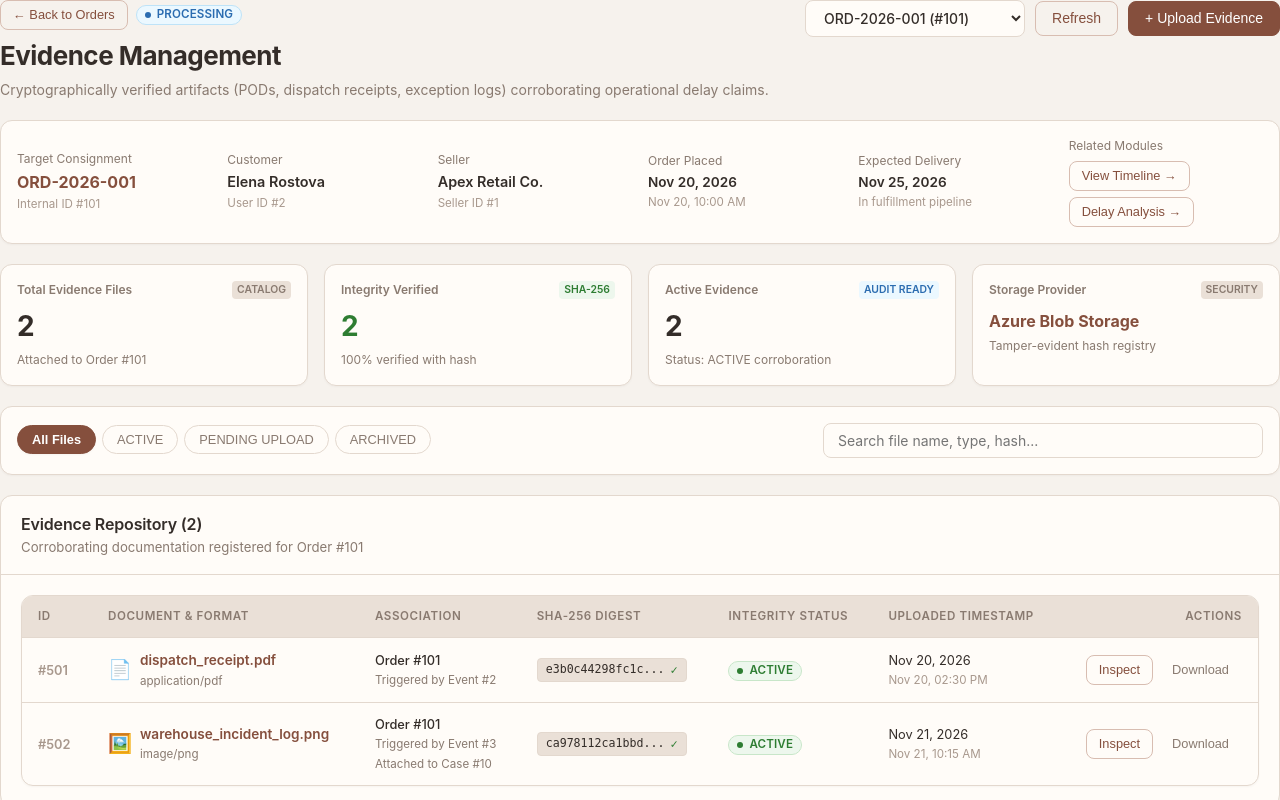
EvidencePage Component › opens the evidence integrity modal and displays full SHA-256 digest
Expected: the text "dispatch_receipt.pdf" is shown, [140, 650, 276, 670]
Step 1. Click the button "Inspect" in the row of "501" → (1119, 670), box [1086, 655, 1153, 685]
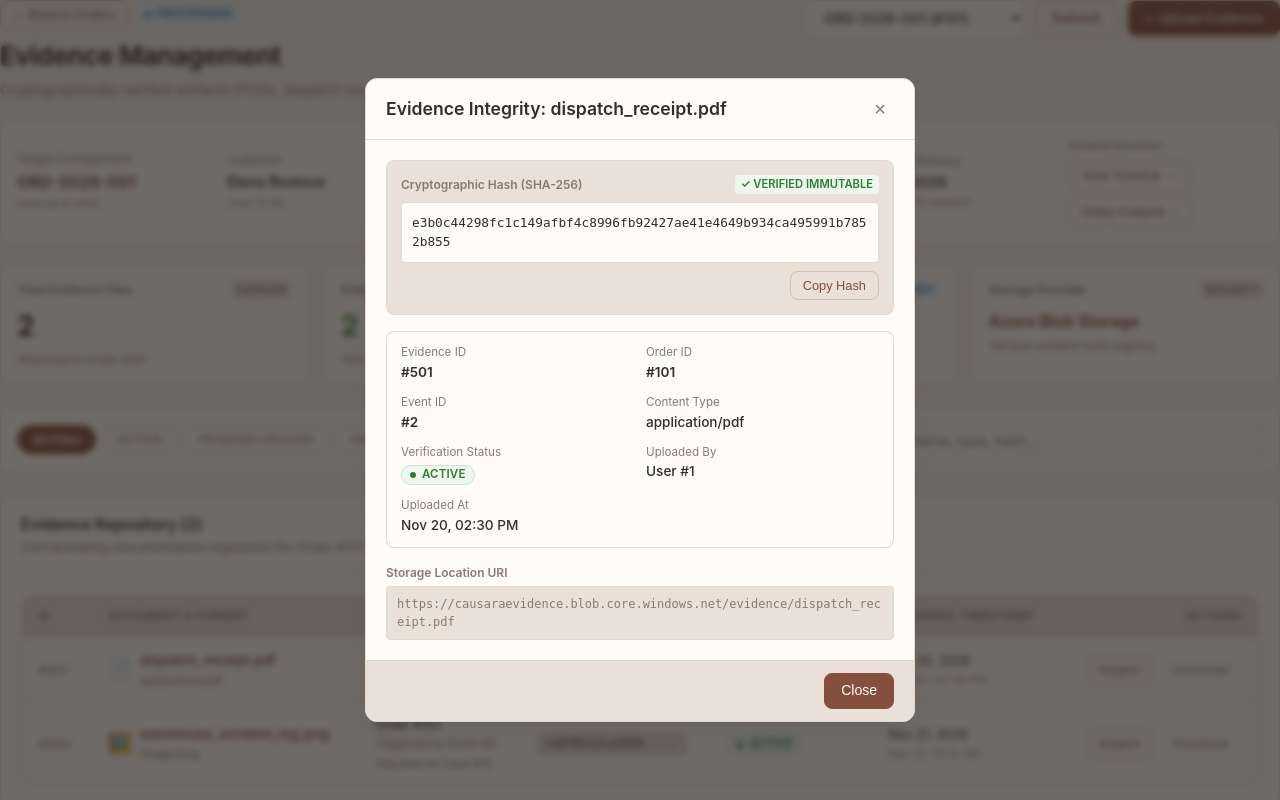
Expected: the heading "Evidence Integrity: dispatch_receipt.pdf" is shown, [386, 96, 727, 122]
Expected: the text "e3b0c44298fc1c149afbf4c8996fb92427ae41e4649b934ca495991b7852b855" is shown, [401, 202, 879, 262]
Expected: the text "✓ VERIFIED IMMUTABLE" is shown, [735, 175, 879, 194]
Step 2. Click the button named "Close" → (880, 109), box [866, 95, 894, 123]
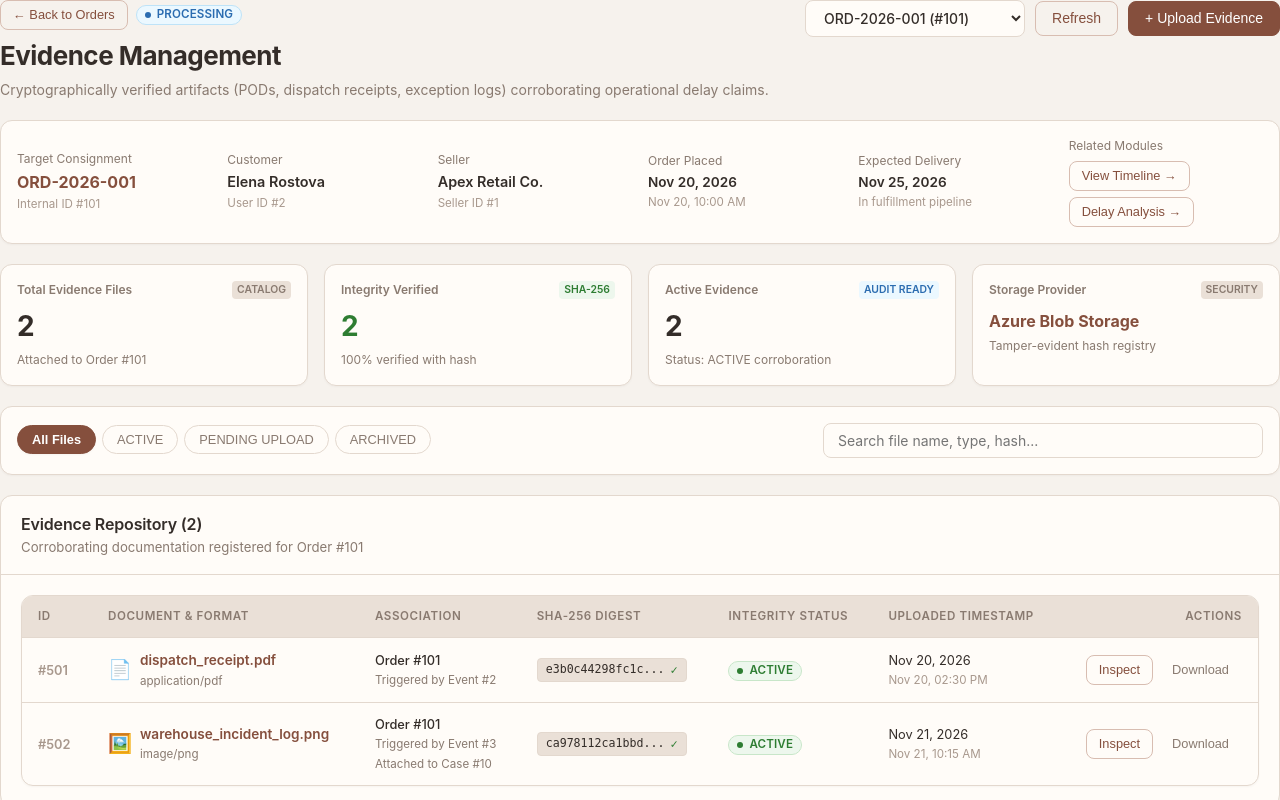
Expected: the heading "Evidence Integrity: dispatch_receipt.pdf" is gone
